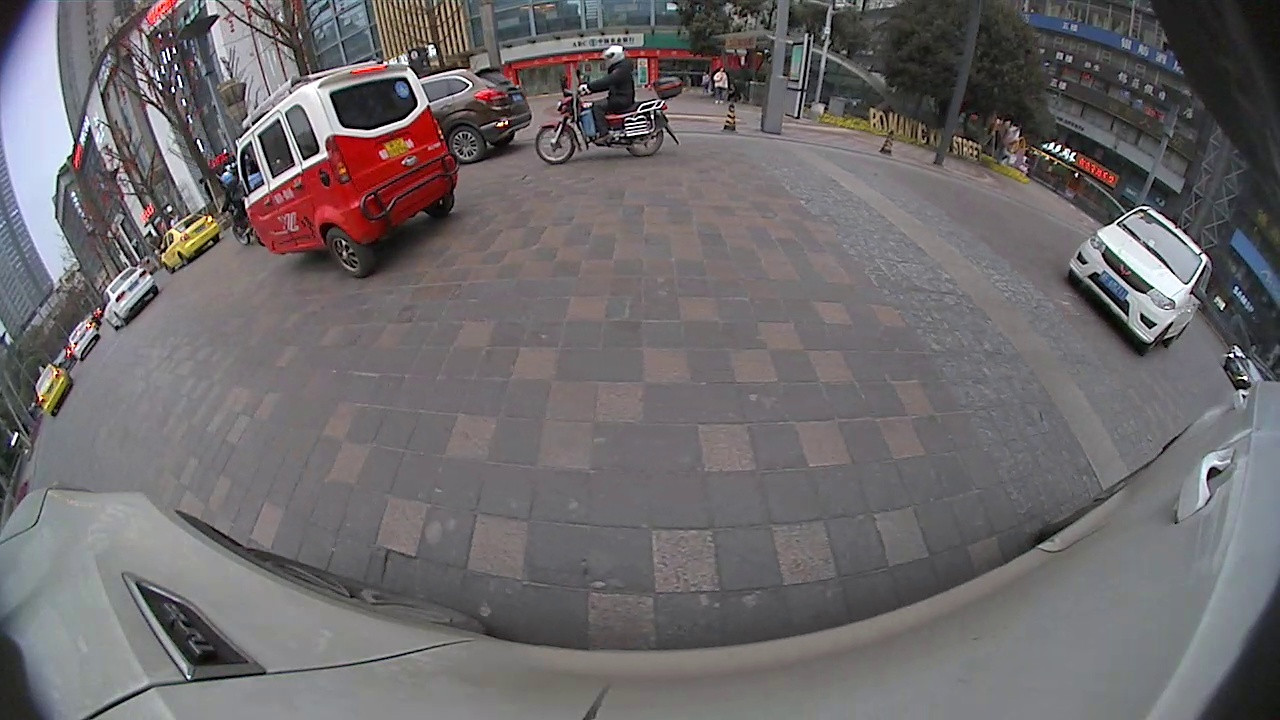car: (1066, 204, 1215, 356), (417, 65, 535, 164), (158, 211, 223, 275), (99, 265, 161, 331), (32, 362, 75, 419), (66, 314, 101, 362), (1223, 355, 1265, 392)
front: (532, 120, 580, 168)
person: (715, 67, 728, 105)
rear: (320, 228, 369, 280), (443, 124, 487, 167), (621, 123, 668, 160)
rider: (235, 62, 459, 279), (534, 42, 684, 166)
